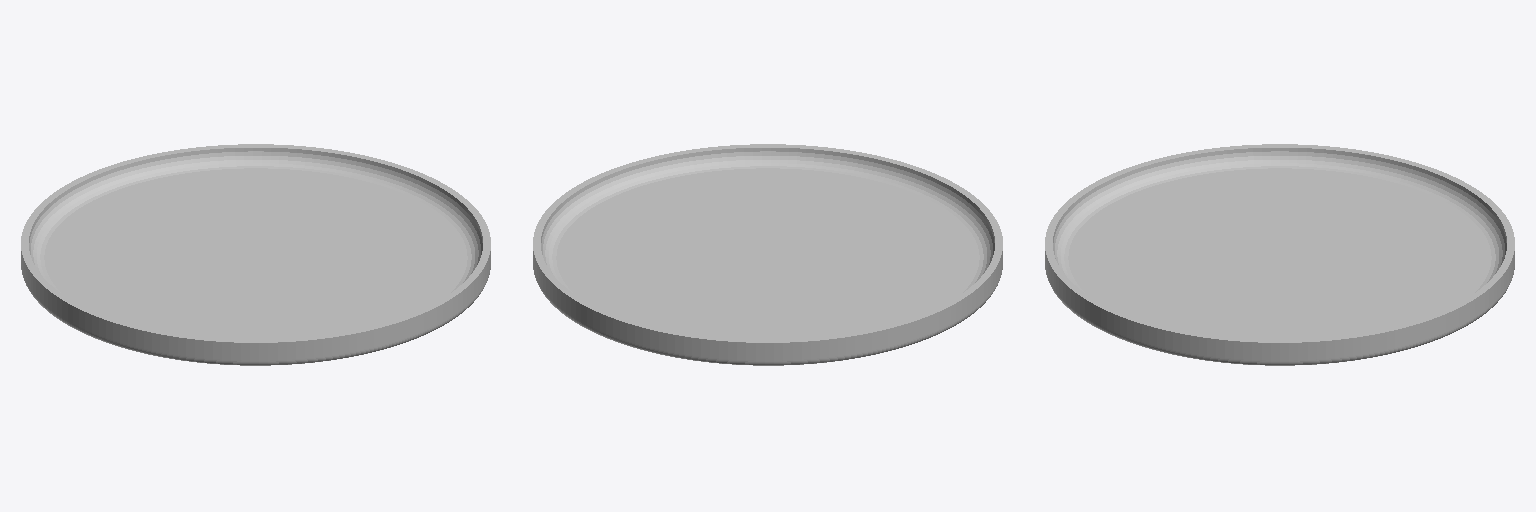
The model's file is Coaster.obj.
The picture shows the model from 3 angles: view 1: azimuth 30°, elevation 25°; view 2: azimuth 150°, elevation 25°; view 3: azimuth 270°, elevation 25°; orthographic projection.
Parts seen in each view (by area): view 1: coaster; view 2: coaster; view 3: coaster.
Boxes of the visible parts, <box> form: coaster: <box>21,144,490,365</box>; coaster: <box>533,144,1002,365</box>; coaster: <box>1045,144,1514,365</box>.
Size of the model in its own units: 6 by 0.35 by 6.